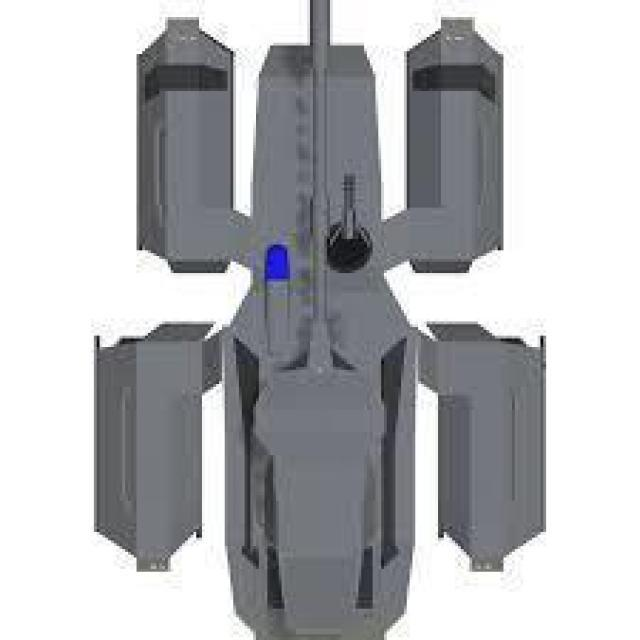MIL_MBT: (90, 7, 553, 633)
